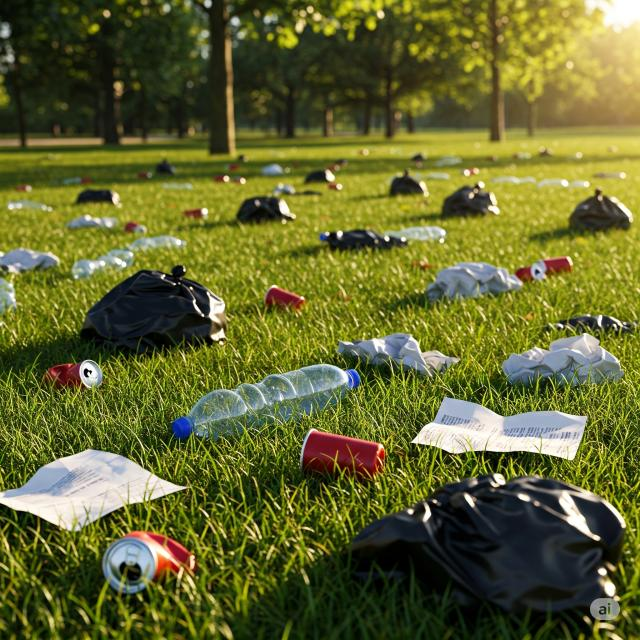aluminum: (100, 532, 198, 592), (44, 359, 103, 394)
paper: (504, 334, 626, 390)
plastic: (170, 364, 364, 442)
